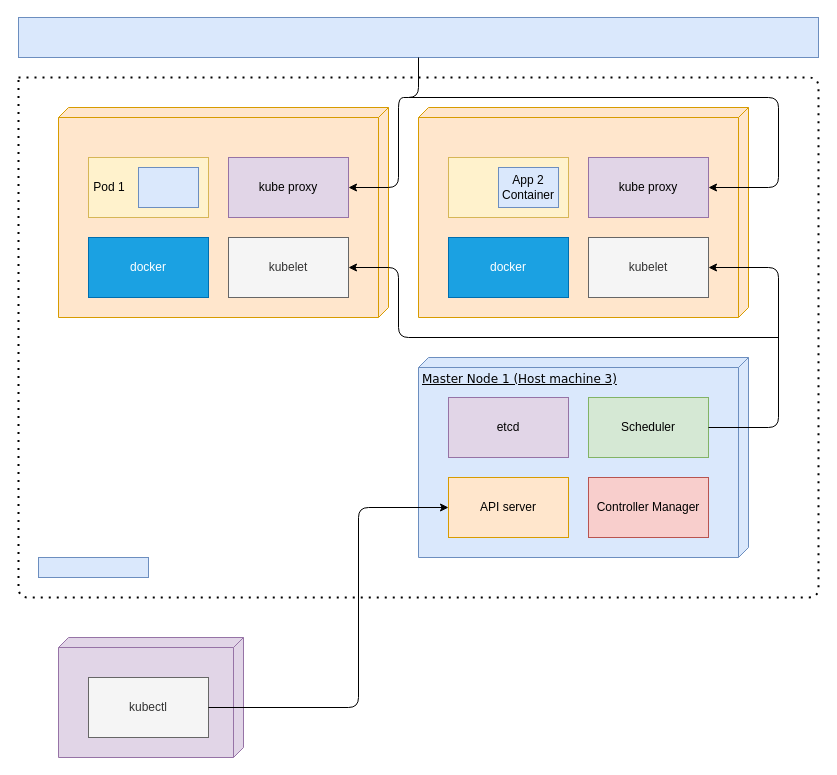
Some shapes in this 837 by 775 pixel diagram are drawn without their labels. Here are the shapes that lost their labels. From the top down, the box of each, then its label:
(18, 16, 818, 58): Cloud LoadBalancer Service
(138, 166, 198, 208): App 1 Container
(448, 156, 568, 218): Pod 2
(58, 106, 388, 318): Worker Node 1 (Host machine 1)
(418, 106, 748, 318): Worker Node 2 (Host machine 2)
(38, 556, 148, 578): Kubernetes Cluster
(58, 636, 244, 758): Local machine
